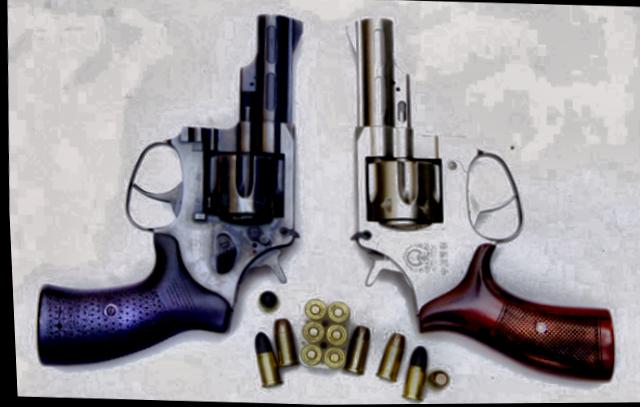pistol: (15, 5, 315, 376), (329, 15, 624, 387)
